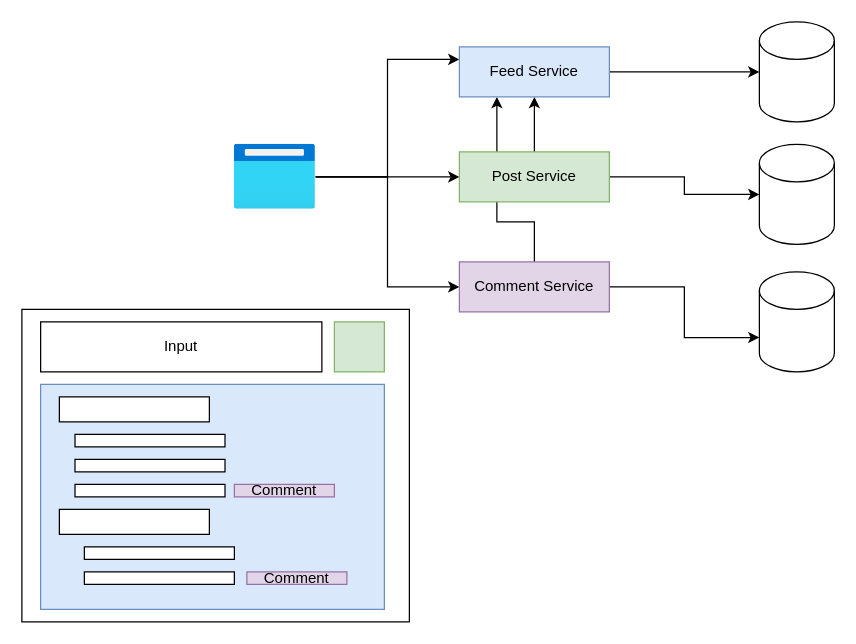
This 856x644 diagram has some shape labels left out. Each missing label, with the centre of its shape:
"POST" goes at point (358, 346).
"UI" goes at point (274, 176).
